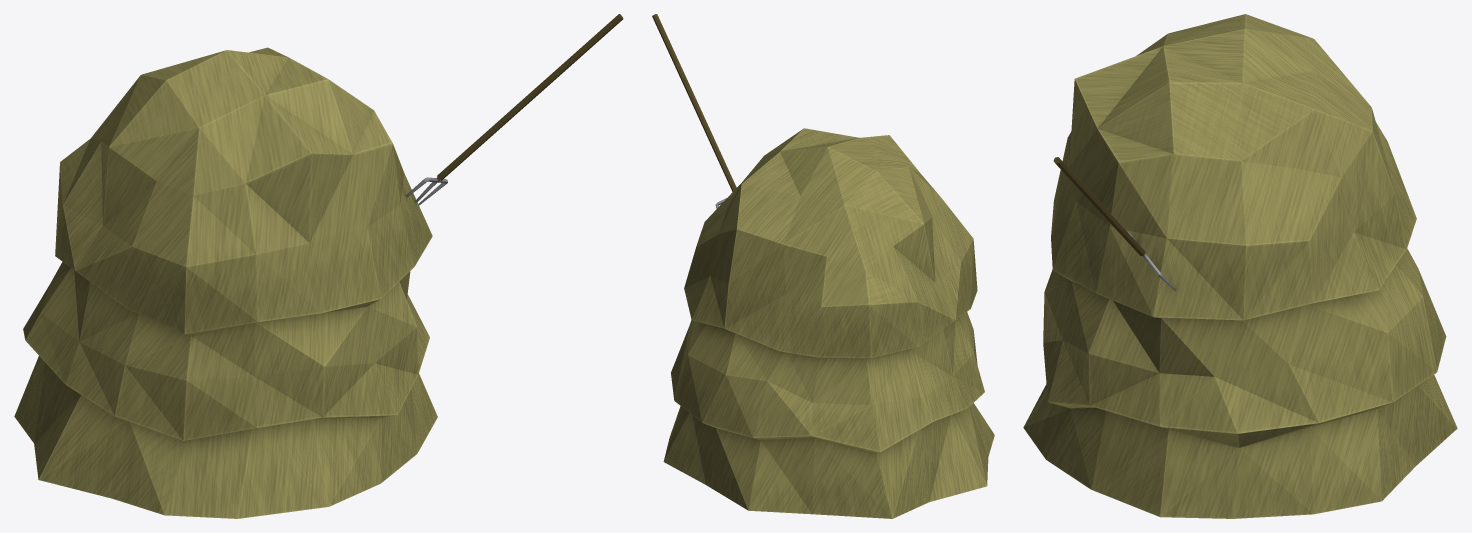
The model's file is hay.glb.
The picture shows the model from 3 angles, left to right: view 1: azimuth 30°, elevation 25°; view 2: azimuth 150°, elevation 25°; view 3: azimuth 270°, elevation 25°; orthographic projection. The views are drawn at different scales.
Parts seen in each view (by area): view 1: node-0; view 2: node-0; view 3: node-0.
Boxes of the visible parts, x1=… form: node-0: x1=14, y1=14, x2=623, y2=518; node-0: x1=652, y1=14, x2=994, y2=518; node-0: x1=1023, y1=14, x2=1457, y2=518.
Bounding box in the file's own units: 11.59 × 8.98 × 8.25.
1 material, 1 textured.
